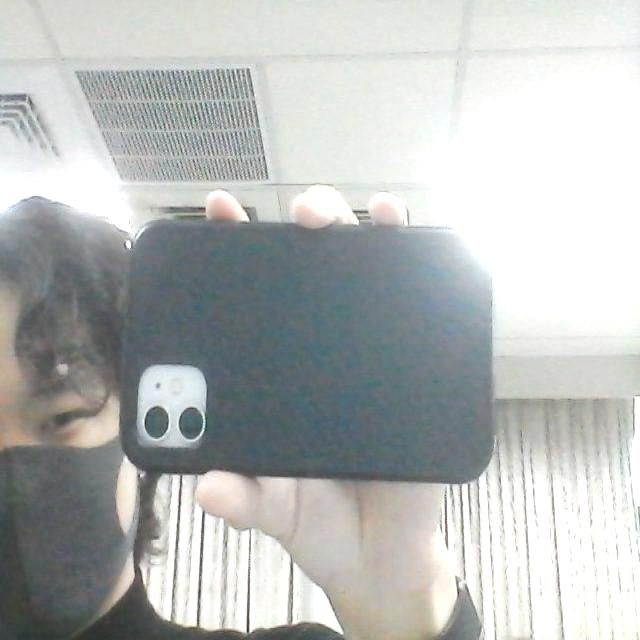phone: (114, 200, 500, 509)
